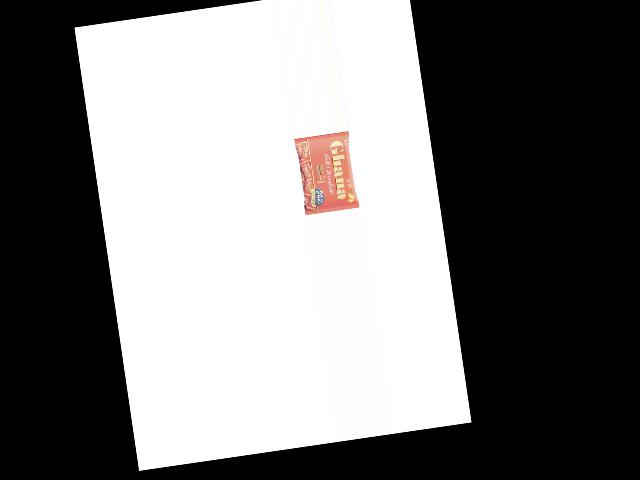chocolate: (292, 132, 358, 216)
